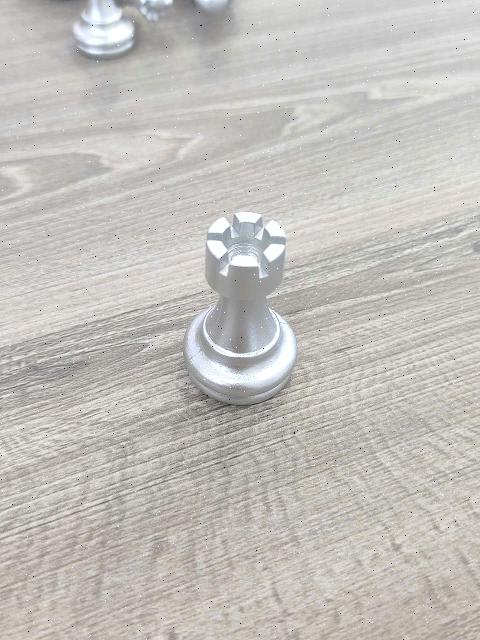white_rook: (183, 205, 300, 401)
